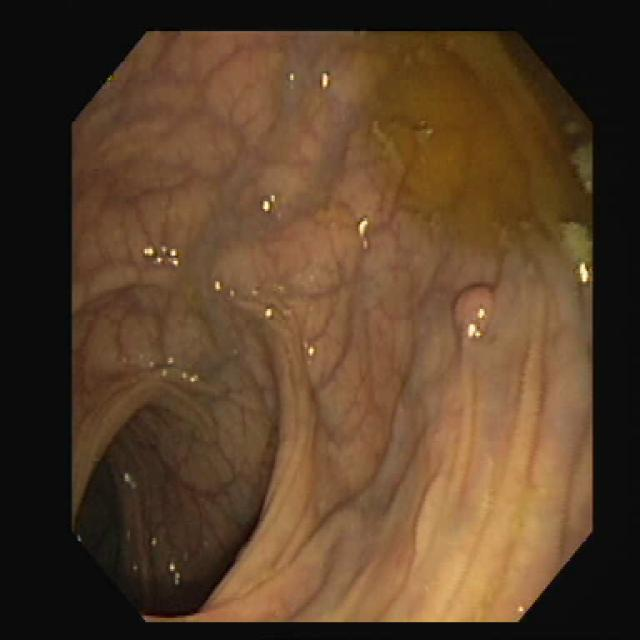tumor: (453, 287, 498, 336)
